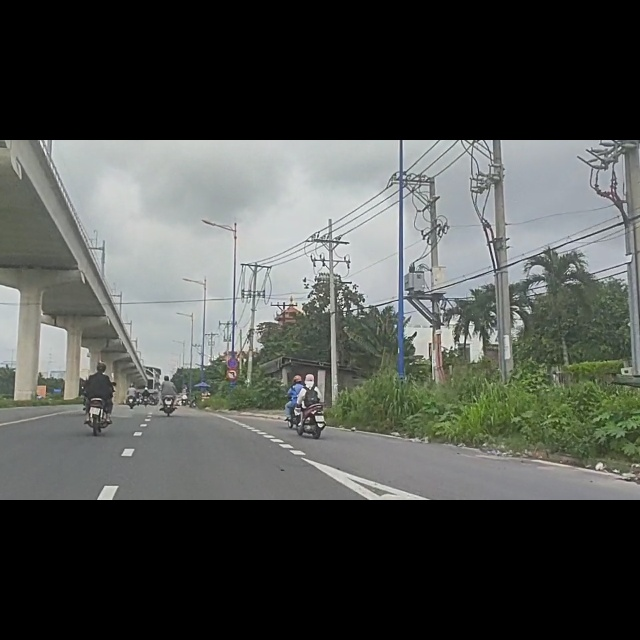bien_cam: (226, 386, 239, 408), (226, 408, 238, 429)
